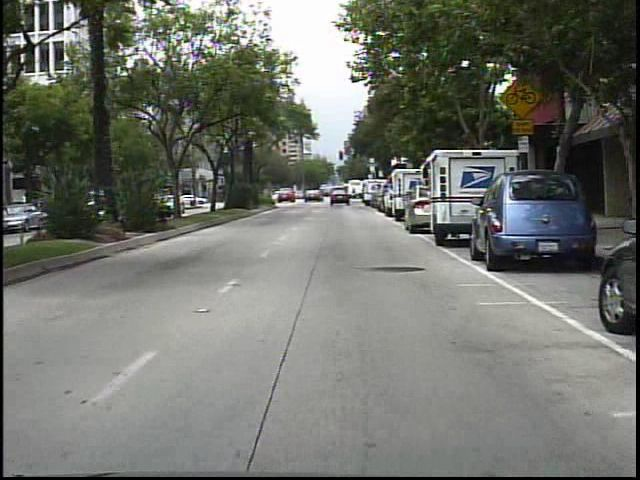person: (350, 183, 359, 204)
